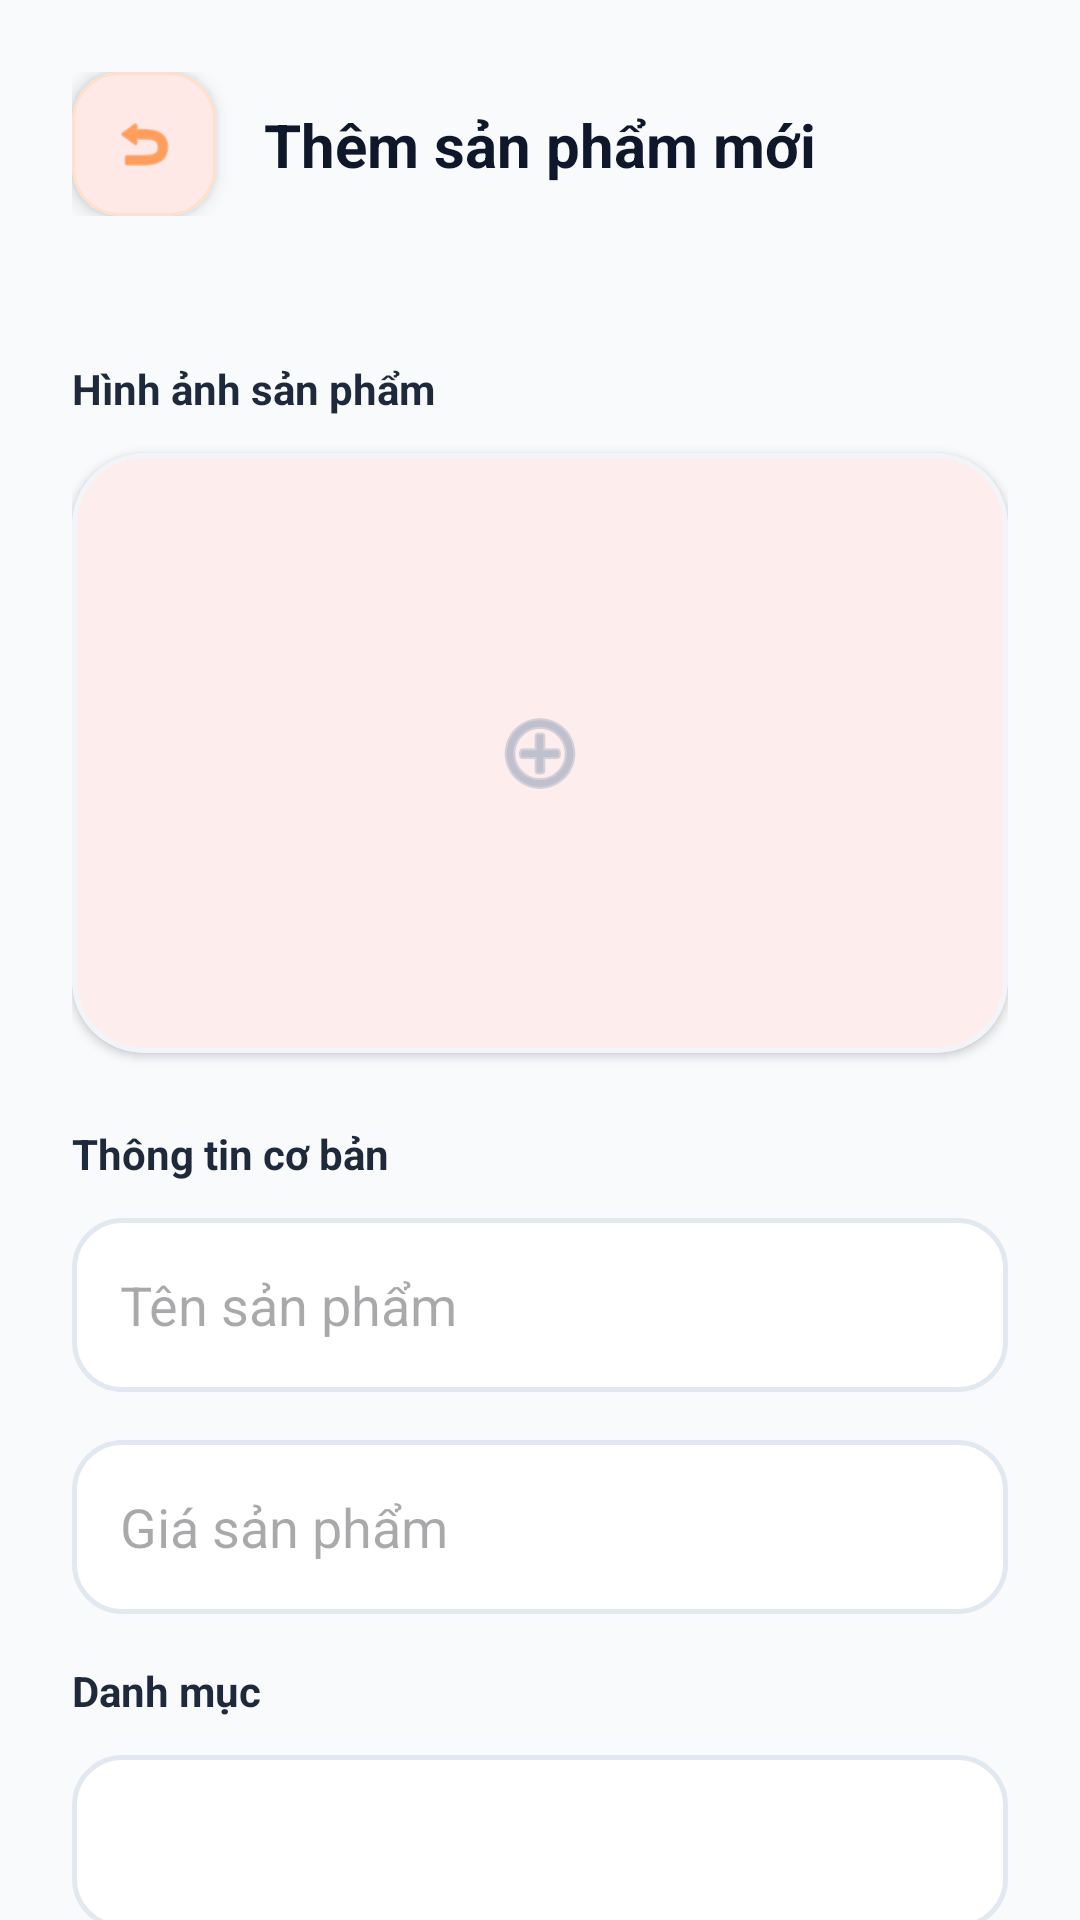

Named icons in this screenshot (1080px×1920px) and their centers, [x,y]:
revert: [144,144]
